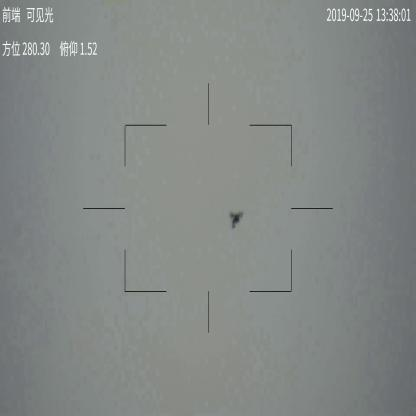uav: (227, 206, 243, 228)
